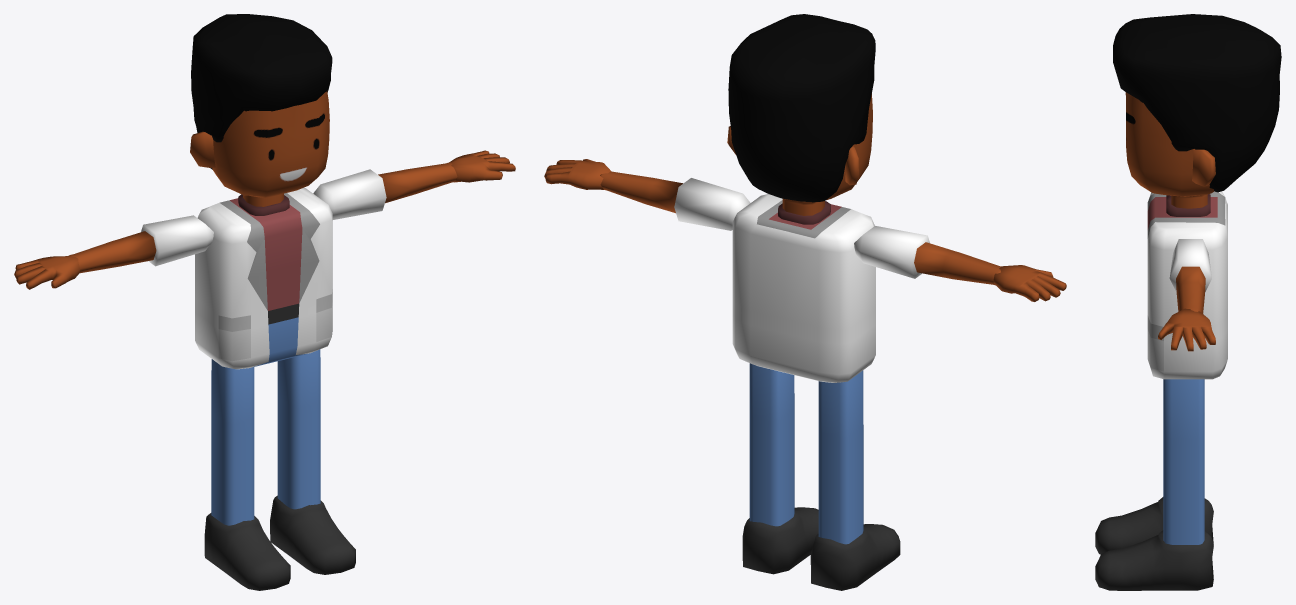
Rendered from NPC_Yellow02_BlackHair06.gltf.
3 views of the same model, side by side, from view 1: azimuth 30°, elevation 25°; view 2: azimuth 150°, elevation 25°; view 3: azimuth 270°, elevation 25° (orthographic). The views are drawn at different scales.
Visible parts, largest first — view 1: NPC_Corpo_Yellow2_BlackHair.006; view 2: NPC_Corpo_Yellow2_BlackHair.006; view 3: NPC_Corpo_Yellow2_BlackHair.006.
Part boxes in pixels (bbox=[...]): NPC_Corpo_Yellow2_BlackHair.006: bbox=[14, 14, 515, 590]; NPC_Corpo_Yellow2_BlackHair.006: bbox=[544, 14, 1066, 590]; NPC_Corpo_Yellow2_BlackHair.006: bbox=[1095, 14, 1281, 590].
Size of the model in its own units: 2.31 by 2.31 by 0.7282.
Materials: 1 (1 with a texture image).
